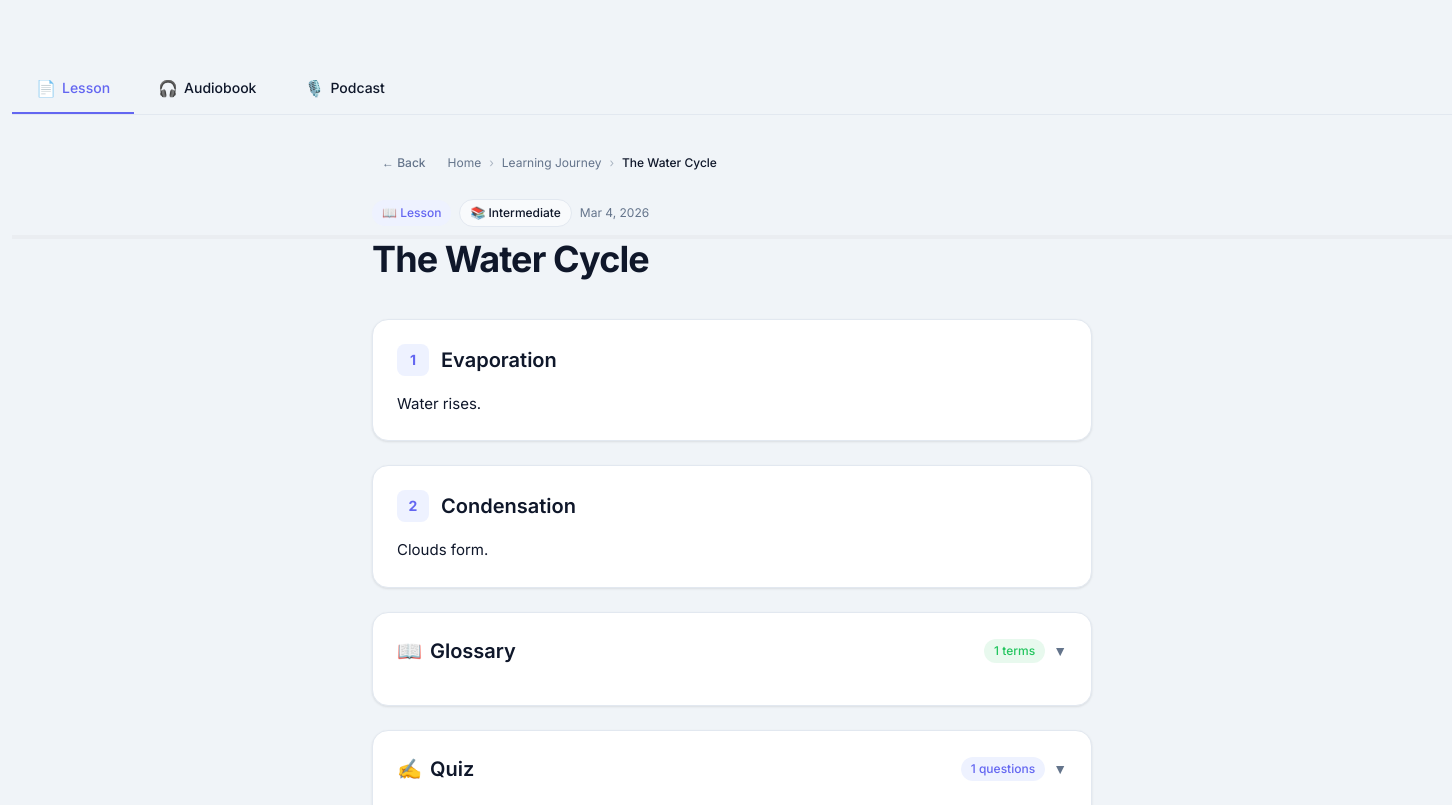
Scenario: LessonContent — glossary › collapses the glossary again on a second toggle
Click the button "📖 Glossary 1 terms ▼": (473, 651) [397,637,1067,665]
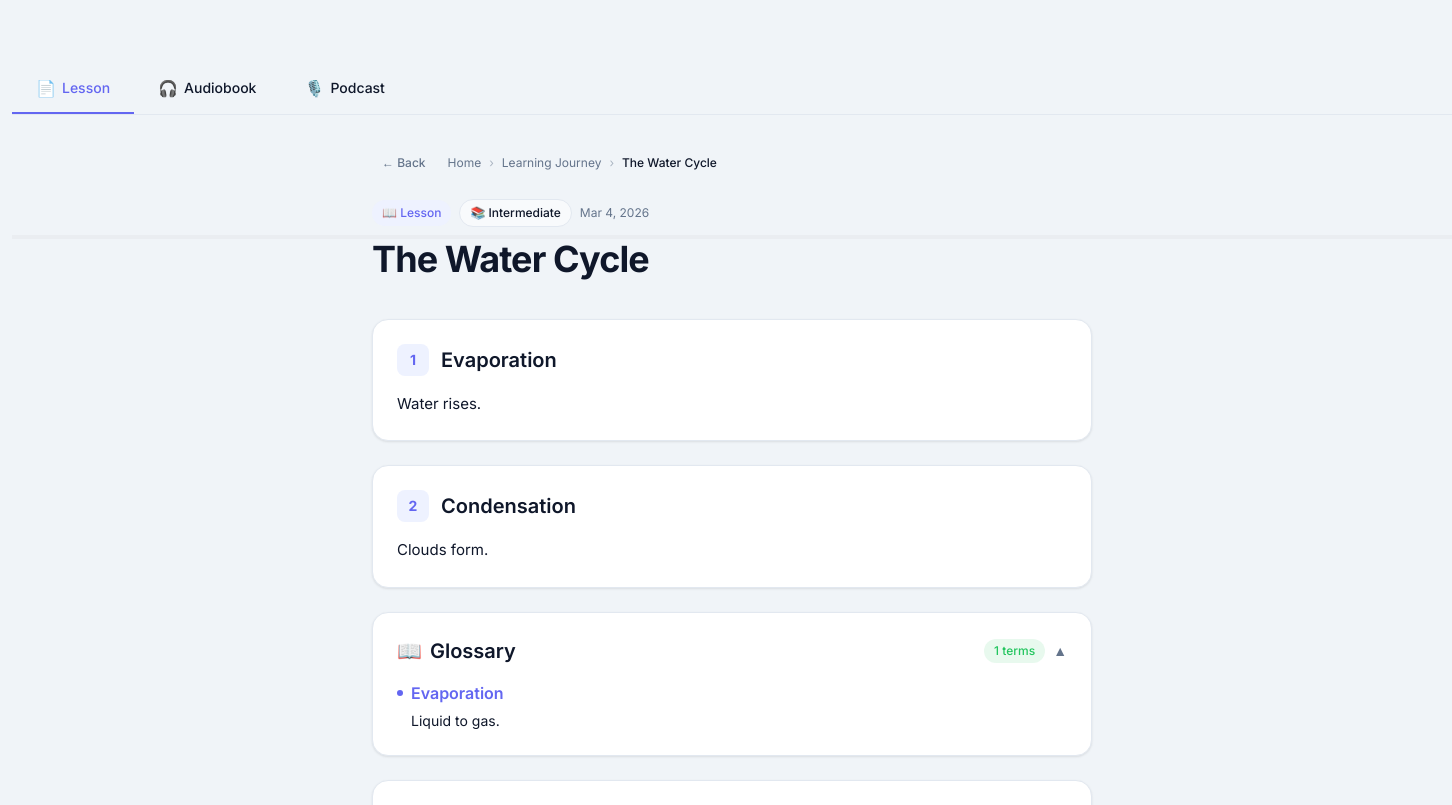
Now the text "Liquid to gas." is shown, box [411,712,500,729]
Click the button "📖 Glossary 1 terms ▲": (473, 651) [397,637,1067,665]
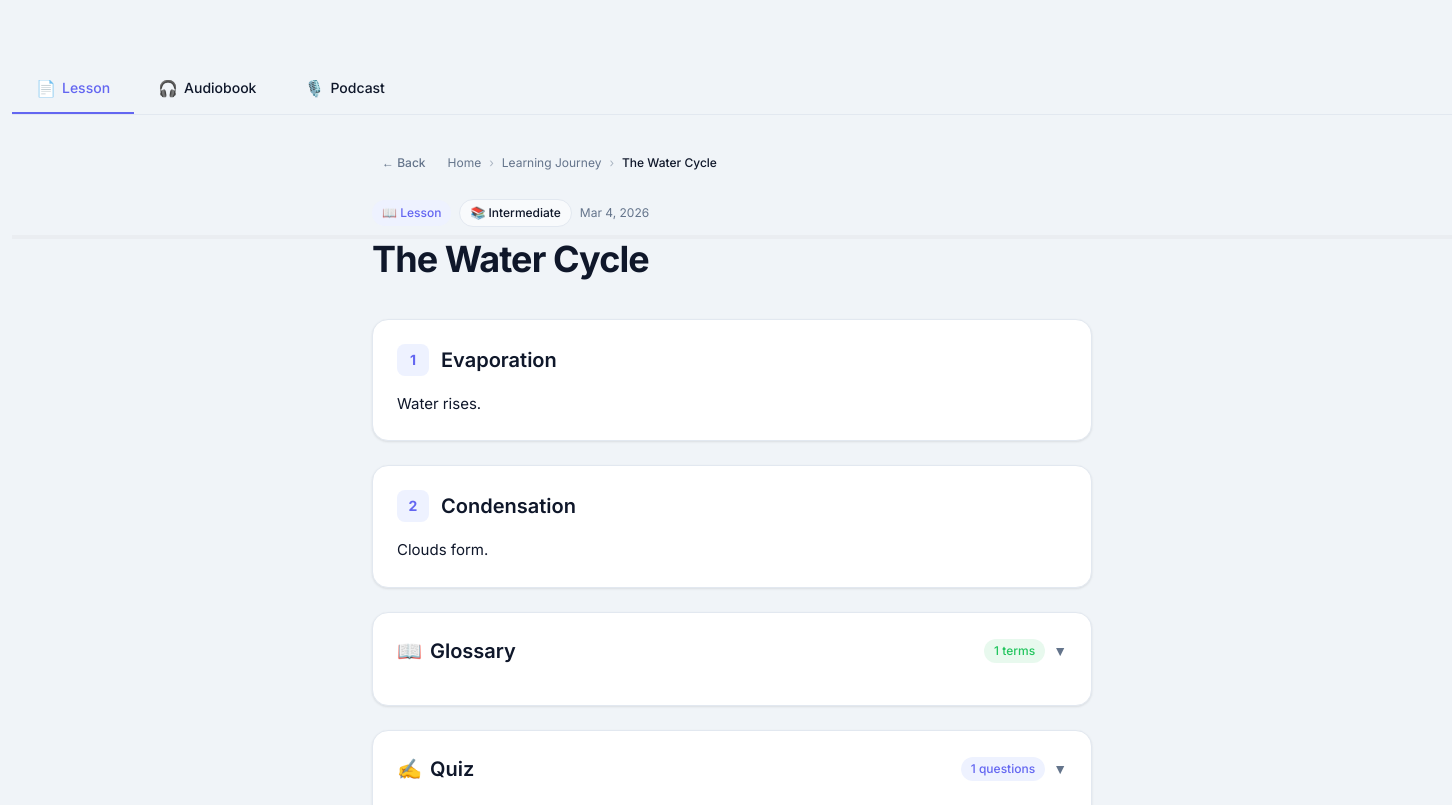
Now the text "Liquid to gas." is gone
